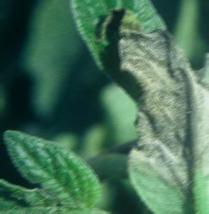Tomato leaf late blight: (42, 0, 209, 214)
